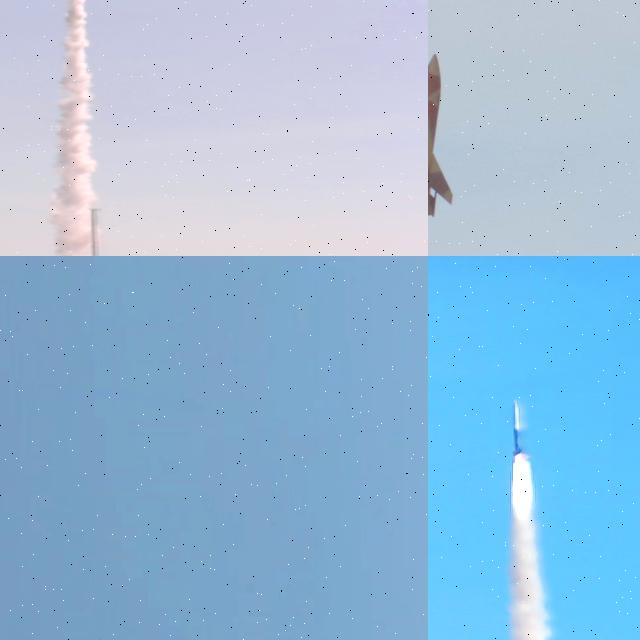Rocket: (428, 53, 453, 218), (512, 401, 522, 455)
